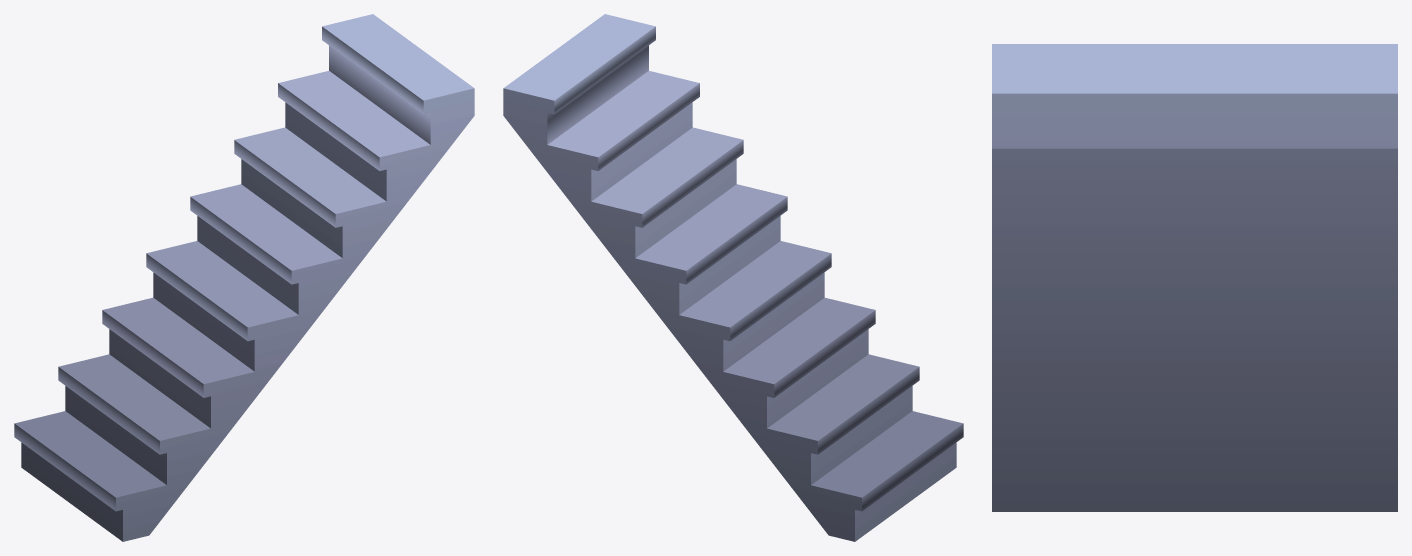
File: stairs-stone.glb
The picture shows the model from 3 angles, left to right: view 1: azimuth 30°, elevation 25°; view 2: azimuth 150°, elevation 25°; view 3: azimuth 270°, elevation 25°; orthographic projection. The views are drawn at different scales.
Parts seen in each view (by area): view 1: stairs-stone; view 2: stairs-stone; view 3: stairs-stone.
Boxes of the visible parts, left/top/right/bottom form: stairs-stone: left=14, top=14, right=474, bottom=541; stairs-stone: left=503, top=14, right=963, bottom=541; stairs-stone: left=992, top=44, right=1397, bottom=511.
Size of the model in its own units: 1.02 by 1 by 0.5.
1 material, 1 textured.
